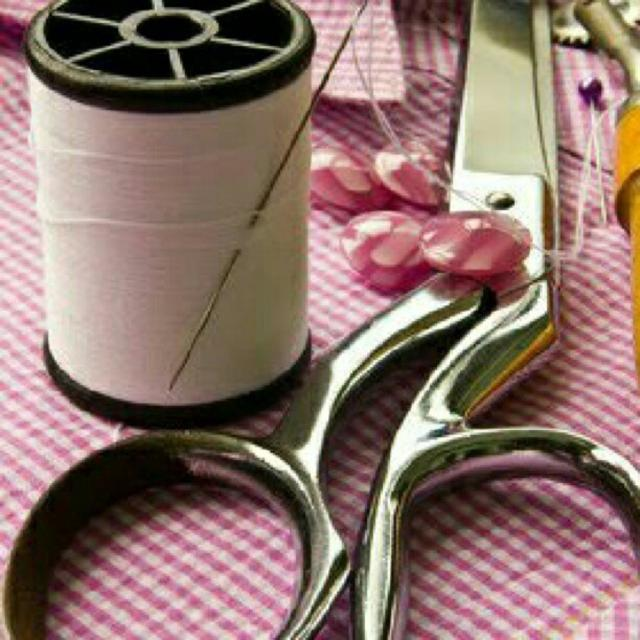scissors: (0, 1, 639, 637)
